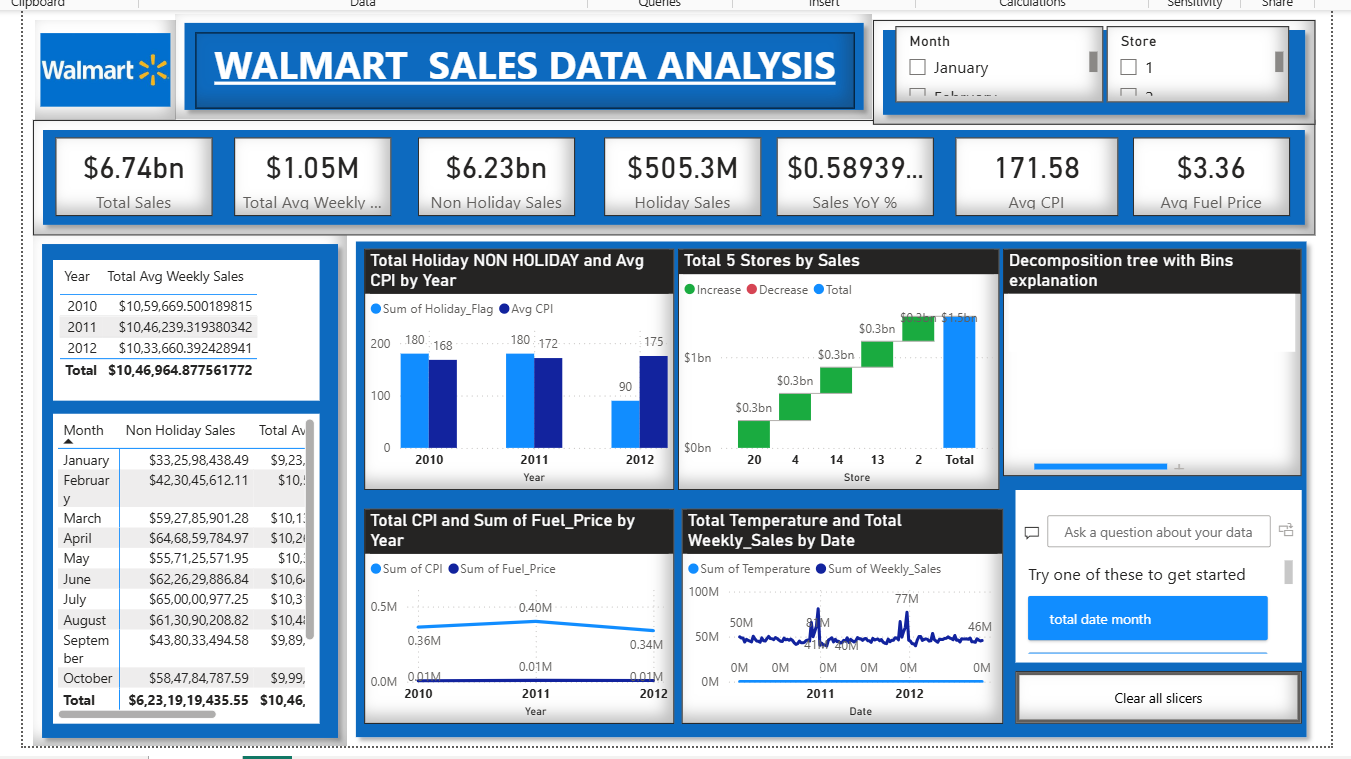

Layout of this report page (visuals, bound fields, positions):
{"tool":"powerbi","page":{"name":"Page 1","canvas":[1280,720],"ordinal":0},"visuals":[{"type":"textbox","box":[10,290,280,280],"z":0},{"type":"shape","box":[149.6,4.1,682,102.9],"z":1000},{"type":"textbox","box":[168.8,22,644.9,74.1],"z":2000},{"type":"image","box":[12.3,9.6,137.2,97.4],"z":3000},{"type":"shape","box":[9.6,219.6,307.4,500.9],"z":4000},{"type":"shape","box":[9.6,107,1254.2,112.5],"z":5000},{"type":"card","fields":{"Values":["Walmart_Sales.Total Sales"]},"box":[31.6,124.9,153.7,76.8],"z":6000},{"type":"card","fields":{"Values":["Dax Function.Sales YoY %"]},"box":[736.9,124.9,153.7,76.8],"z":7000},{"type":"card","fields":{"Values":["Dax Function.Holiday Sales"]},"box":[568.1,124.9,153.7,76.8],"z":8000},{"type":"card","fields":{"Values":["Dax Function.Avg Fuel Price"]},"box":[1085.4,124.9,153.7,76.8],"z":9000},{"type":"card","fields":{"Values":["Dax Function.Total Avg Weekly Sales"]},"box":[207.2,124.9,153.7,76.8],"z":10000},{"type":"card","fields":{"Values":["Dax Function.Non Holiday Sales"]},"box":[387,124.9,153.7,76.8],"z":11000},{"type":"shape","box":[831.5,9.8,432.9,102.7],"z":12000},{"type":"slicer","fields":{"Values":["Dim Date.Date.Variation.Date Hierarchy.Month"]},"box":[853.5,16.5,203.1,74.1],"z":13000},{"type":"card","fields":{"Values":["Dax Function.Avg CPI"]},"box":[912.5,124.9,159.2,76.8],"z":14000},{"type":"slicer","fields":{"Values":["Walmart_Sales.Store"]},"box":[1060.7,16.5,178.4,74.1],"z":15000},{"type":"tableEx","fields":{"Values":["Dim Date.Date.Variation.Date Hierarchy.Year","Dax Function.Total Avg Weekly Sales"]},"box":[28.8,244.3,260.7,137.2],"z":16000},{"type":"pivotTable","fields":{"Rows":["Dim Date.Date.Variation.Date Hierarchy.Month"],"Values":["Dax Function.Non Holiday Sales","Dax Function.Total Avg Weekly Sales"]},"box":[28.8,395.2,260.7,303.3],"z":17000},{"type":"shape","box":[316.7,217.7,947.7,502.6],"z":18000},{"type":"clusteredColumnChart","title":"Total Holiday  NON HOLIDAY and Avg CPI by Year","fields":{"Y":["Sum(Walmart_Sales.Holiday_Flag)","Dax Function.Avg CPI"],"Category":["Dim Date.Date.Variation.Date Hierarchy.Year"]},"box":[333.8,233.6,303.3,236],"z":19000},{"type":"lineChart","title":"Total CPI and Sum of Fuel_Price by Year","fields":{"Category":["Dim Date.Date.Variation.Date Hierarchy.Year"],"Y":["Sum(Walmart_Sales.CPI)","Sum(Walmart_Sales.Fuel_Price)"]},"box":[333.8,487.9,303.3,210.3],"z":20000},{"type":"waterfallChart","title":"Total 5 Stores by Sales","fields":{"Category":["Walmart_Sales.Store"],"Y":["Walmart_Sales.Total Sales"]},"box":[640.8,233.6,314.3,236],"z":21000},{"type":"lineChart","title":"Total Temperature and Total Weekly_Sales by Date","fields":{"Y":["Sum(Walmart_Sales.Temperature)","Sum(Walmart_Sales.Weekly_Sales)"],"Category":["Walmart_Sales.Date"]},"box":[644.4,487.9,314.3,210.3],"z":22000},{"type":"decompositionTreeVisual","title":"Decomposition tree with Bins explanation","fields":{"Analyze":["Walmart_Sales.Total Sales"],"ExplainBy":["Dim Date.Date.Variation.Date Hierarchy.Year","Walmart_Sales.Holiday_Flag","Walmart_Sales.Store","Walmart_Sales.Fuel_Price (bins)","Walmart_Sales.CPI (bins)"]},"box":[958.7,233.6,292.3,222.6],"z":23000},{"type":"actionButton","box":[970.9,646.9,280,51.4],"z":24000},{"type":"qnaVisual","box":[970.9,469.6,280,168.8],"z":29000}]}

Visuals, with their boxes in screenshot pixels (x1, y1, x2, y2):
textbox: 42/309/323/590
shape: 182/22/867/125
textbox: 201/40/849/114
image: 44/27/182/125
shape: 41/238/350/741
shape: 41/125/1300/238
card - Walmart_Sales.Total Sales: 63/143/218/220
card - Dax Function.Sales YoY %: 771/143/926/220
card - Dax Function.Holiday Sales: 602/143/756/220
card - Dax Function.Avg Fuel Price: 1121/143/1276/220
card - Dax Function.Total Avg Weekly Sales: 240/143/394/220
card - Dax Function.Non Holiday Sales: 420/143/575/220
shape: 866/27/1301/131
slicer - Dim Date.Date.Variation.Date Hierarchy.Month: 889/34/1092/109
card - Dax Function.Avg CPI: 948/143/1108/220
slicer - Walmart_Sales.Store: 1097/34/1276/109
tableEx - Dim Date.Date.Variation.Date Hierarchy.Year x Dax Function.Total Avg Weekly Sales: 61/263/322/401
pivotTable - Dim Date.Date.Variation.Date Hierarchy.Month x Dax Function.Non Holiday Sales: 61/414/322/719
shape: 350/236/1301/741
"Total Holiday  NON HOLIDAY and Avg CPI by Year" clusteredColumnChart: 367/252/671/489
"Total CPI and Sum of Fuel_Price by Year" lineChart: 367/507/671/719
"Total 5 Stores by Sales" waterfallChart: 675/252/991/489
"Total Temperature and Total Weekly_Sales by Date" lineChart: 679/507/994/719
"Decomposition tree with Bins explanation" decompositionTreeVisual: 994/252/1288/476
actionButton: 1006/667/1288/719
qnaVisual: 1006/489/1288/659
